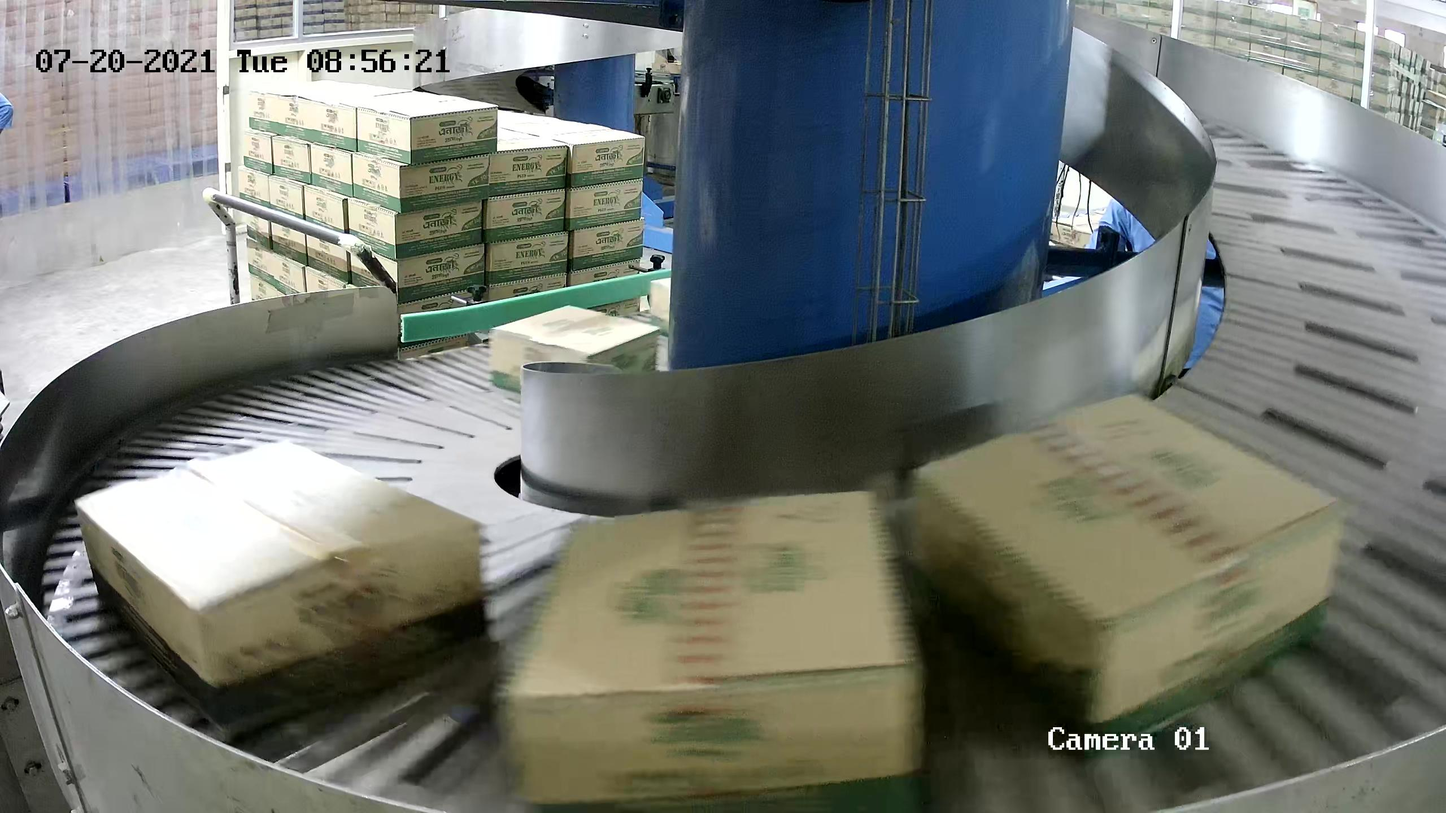Box: (912, 388, 1341, 758), (503, 487, 931, 813), (74, 439, 492, 740), (489, 304, 660, 405)
